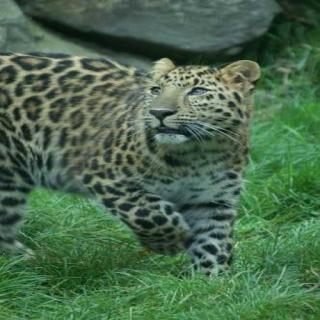Leopard: (0, 45, 286, 282)
